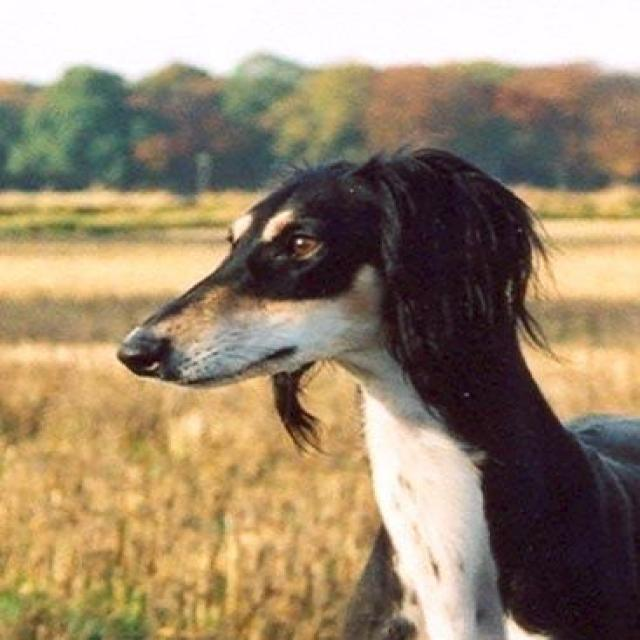saluki: (114, 146, 636, 637)
